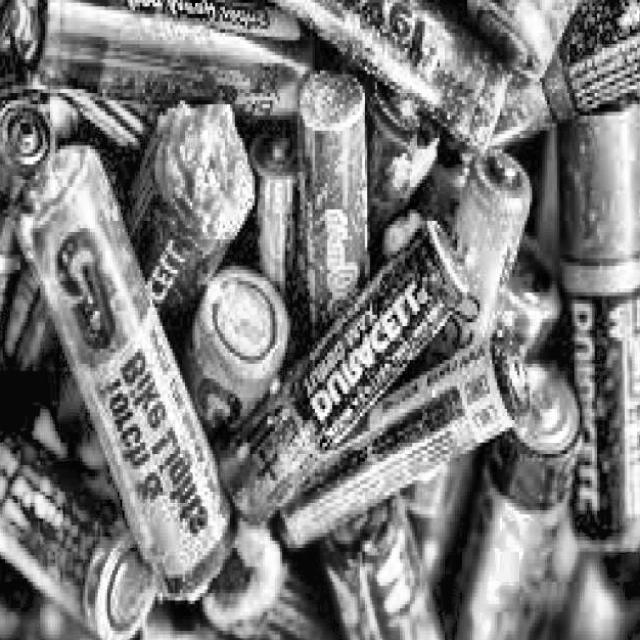Non-Valuable Waste - Batteries: (18, 144, 237, 602), (214, 232, 462, 527), (275, 325, 529, 555)
